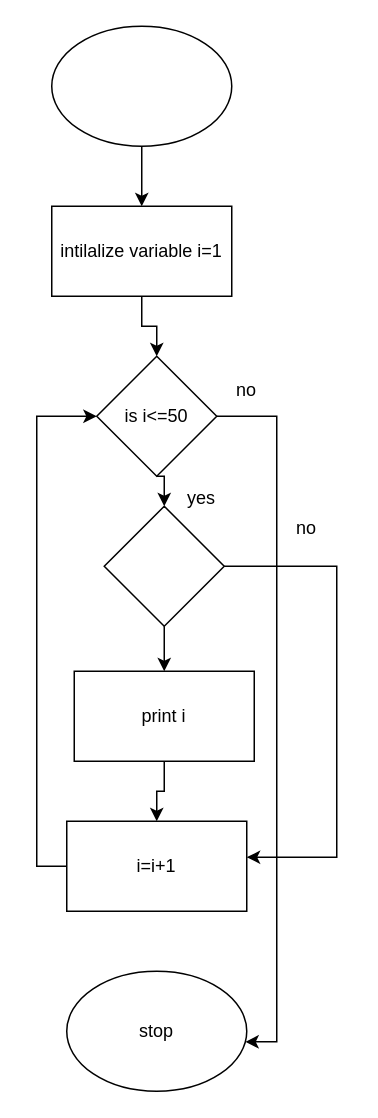
This 378x1118 diagram has some shape labels left out. Each missing label, with the centre of its shape:
is i%2==0: the point at 163,565
start: the point at 141,85
